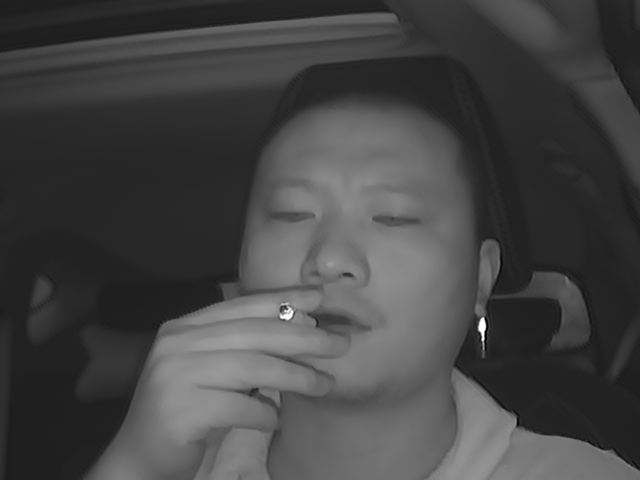hand: (196, 280, 338, 431)
